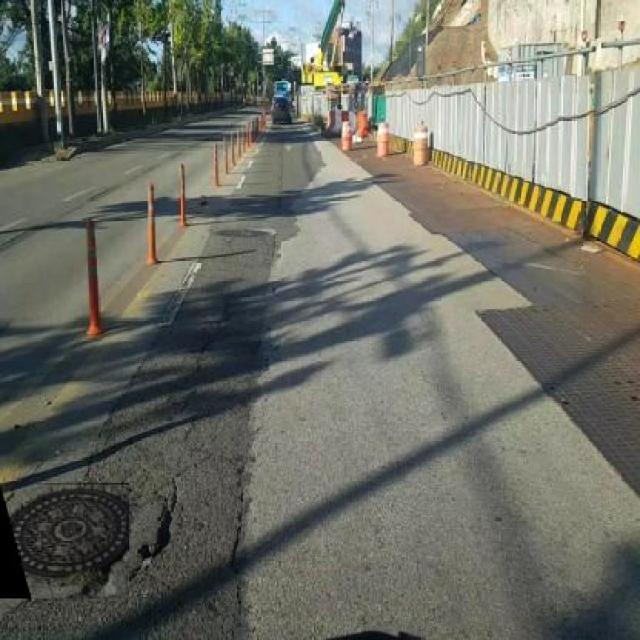Manhole: (0, 483, 129, 599)
Pothole: (140, 468, 216, 592)
